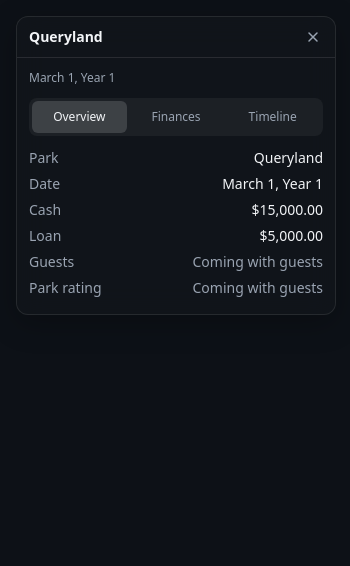
Test case: Inspector: the park › a tab click shows that tab and remembers it in the store, still on the park
Press the mouse on the tab "Finances": (176, 117) top-left (129, 101), bottom-right (223, 133)
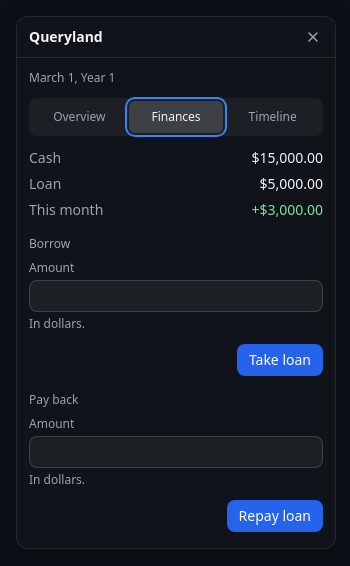
Now the text "This month" is shown, box top-left (29, 200), bottom-right (103, 220)
